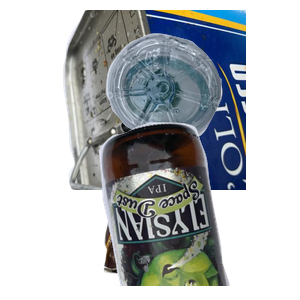glass: (97, 120, 300, 300)
metal: (60, 10, 300, 190)
plastic: (104, 31, 300, 168)
trash: (101, 157, 270, 300)
